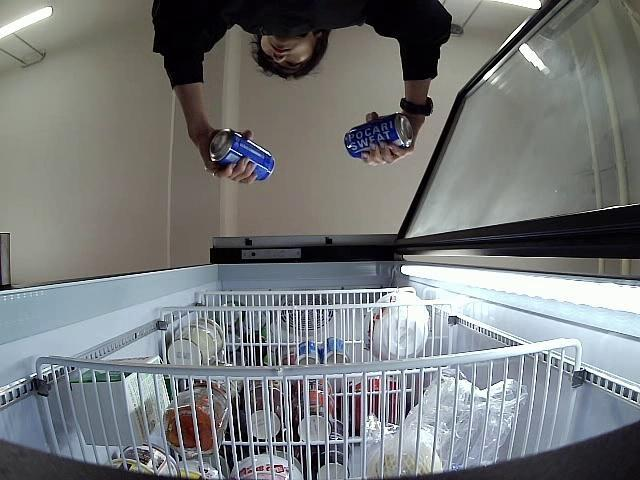13_pocariSweat: (209, 128, 276, 184), (344, 113, 416, 156)
